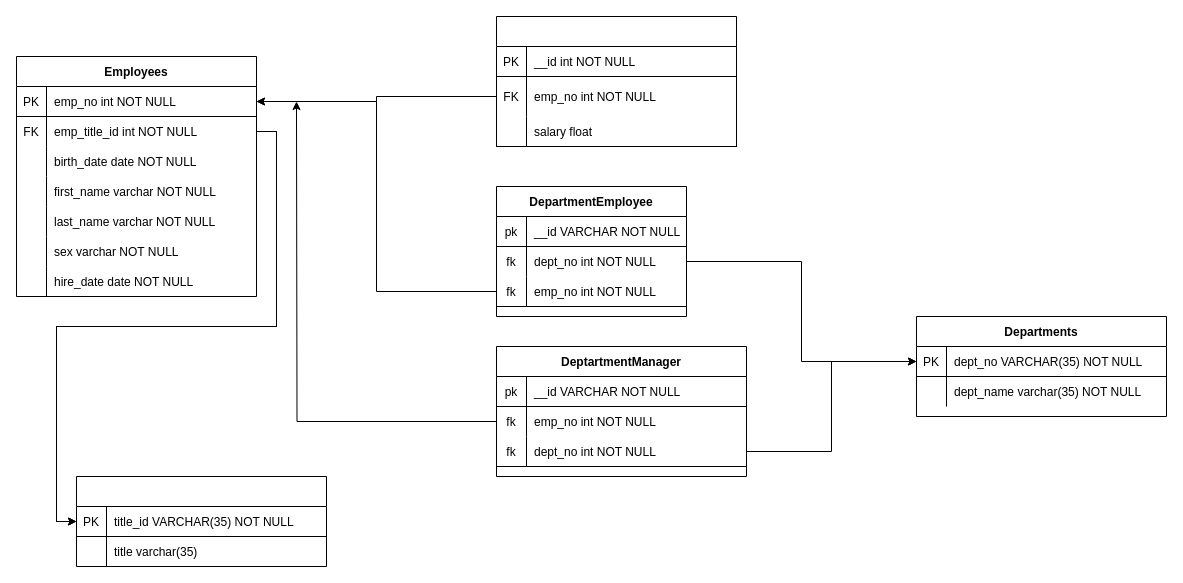
The diagram is 1183 pixels wide and 583 high, and some of its shapes have lost their labels. Here are the shapes that lost their labels. From the top down, the box of each, then its label:
(496, 16, 736, 146): Salaries
(76, 476, 326, 566): Titles
